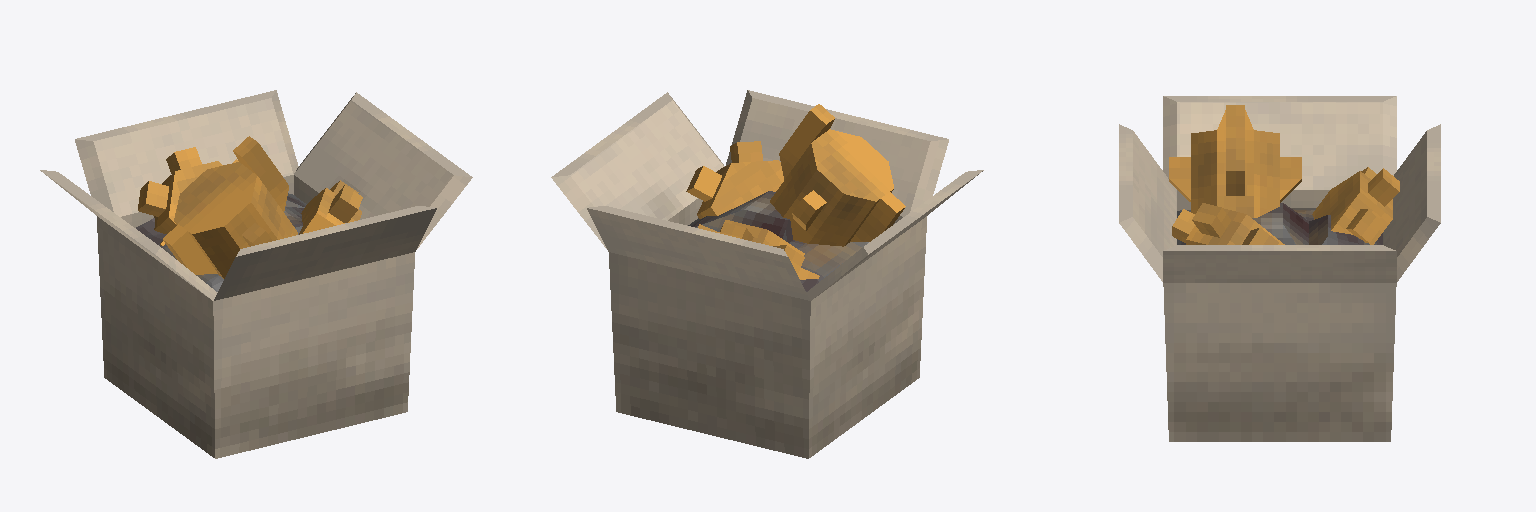
The picture shows the model from 3 angles: view 1: azimuth 30°, elevation 25°; view 2: azimuth 150°, elevation 25°; view 3: azimuth 270°, elevation 25°; orthographic projection.
Parts seen in each view (by area): view 1: cuboid, cylinder; view 2: cuboid, cylinder; view 3: cuboid, cylinder.
Boxes of the visible parts, x1,y1,x2,y2 form: cuboid: [40, 90, 472, 458]; cylinder: [138, 136, 362, 278]; cuboid: [551, 90, 983, 458]; cylinder: [686, 104, 905, 279]; cuboid: [1119, 96, 1440, 441]; cylinder: [1169, 105, 1399, 244].
Bounding box in the file's own units: 1.03 × 0.8628 × 0.9062.
1 materials, 1 textured.